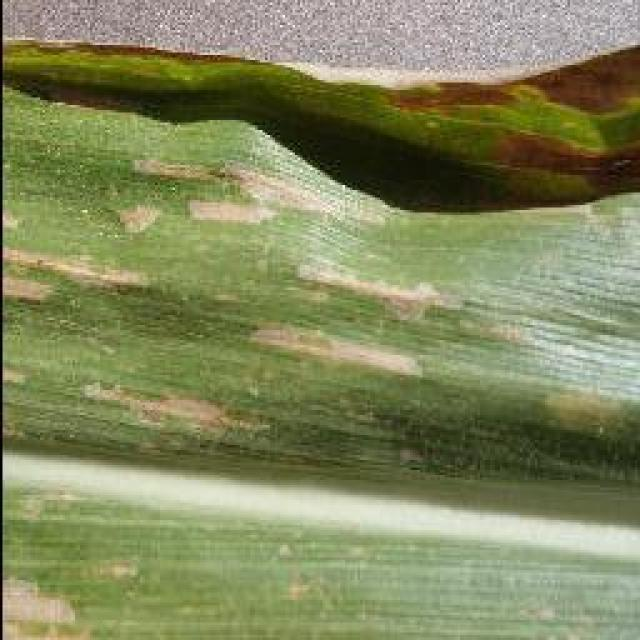Corn_Grey_Leaf_Spot: (2, 40, 640, 640)
